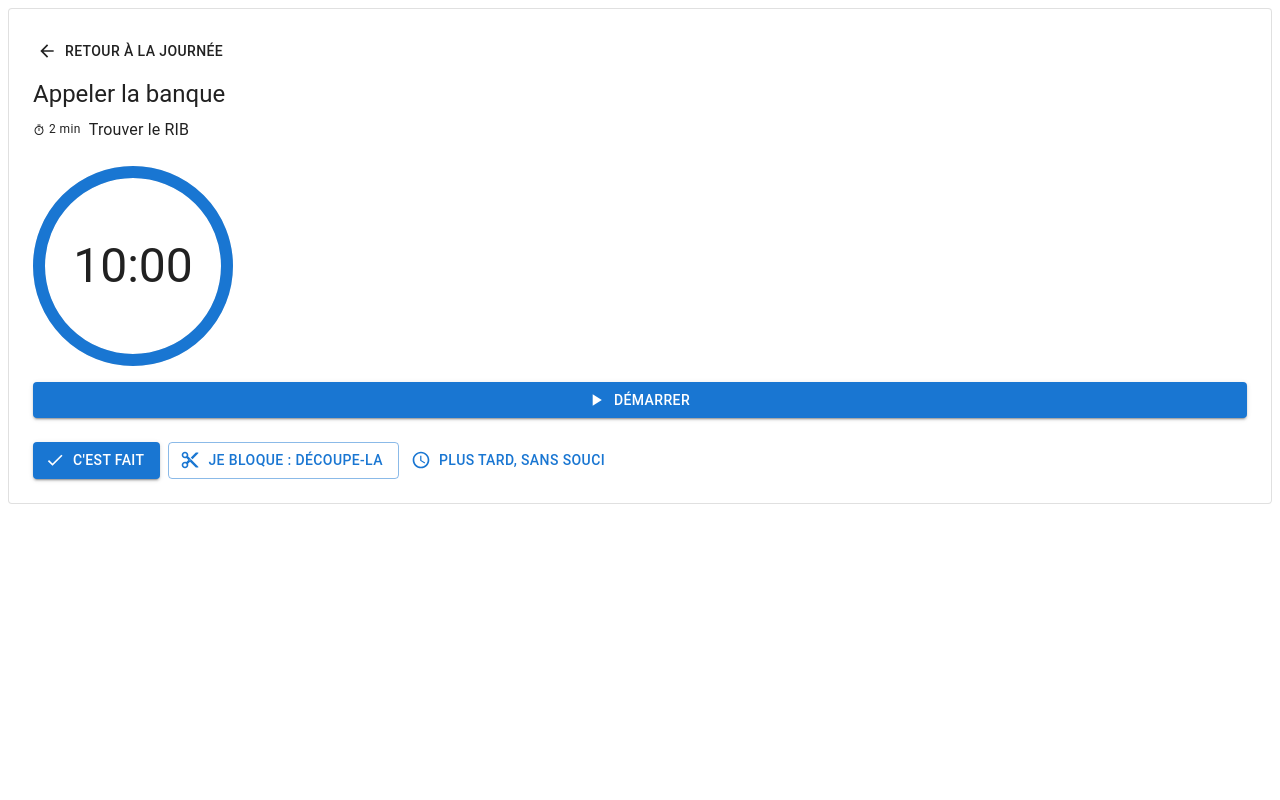
Test case: TaskFocus (MAG-499) › the petits pas › « Je bloque » works on a task with no petit pas yet, and the button adds too
The width and height of the screenshot is (1280, 800).
Click the button "Je bloque : découpe-la" at (284, 460), box [168, 442, 399, 478]
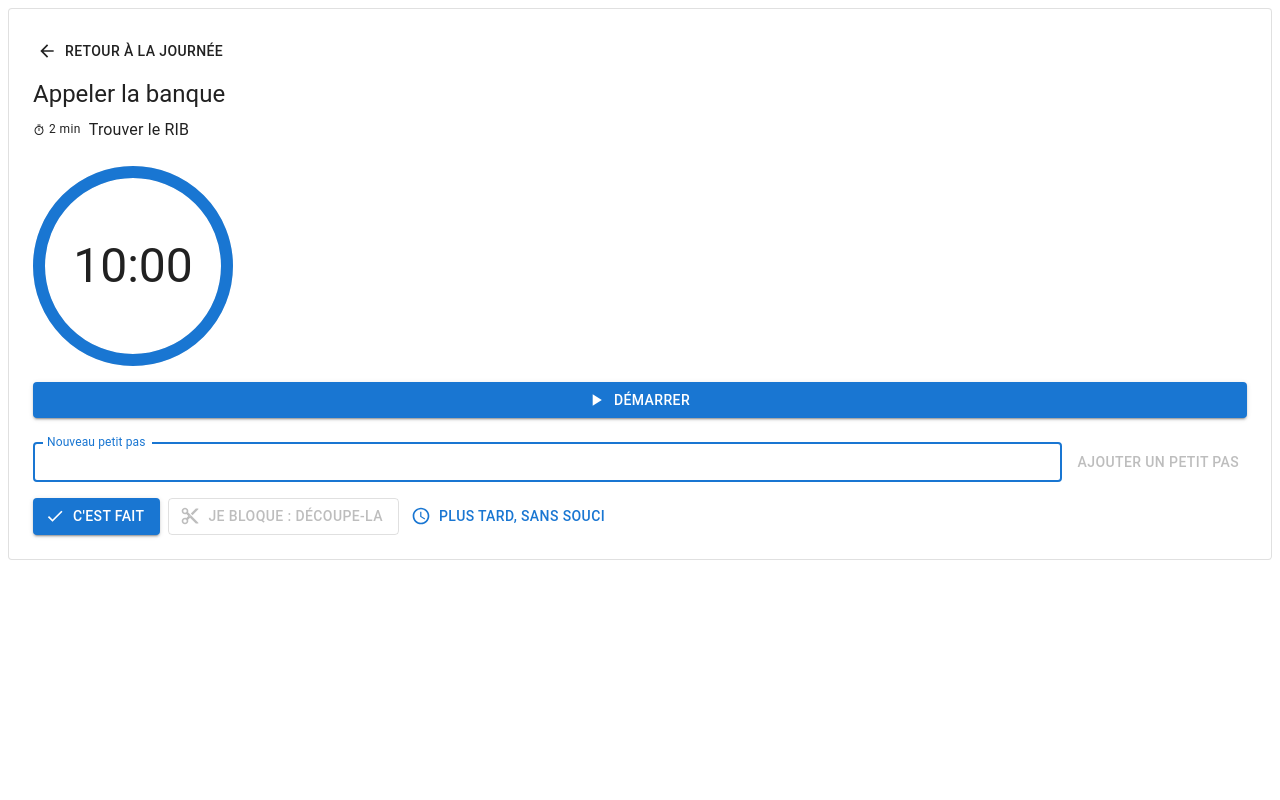
Type "Ouvrir le courrier" into the field labelled "Nouveau petit pas" at (547, 462), box [33, 442, 1062, 482]
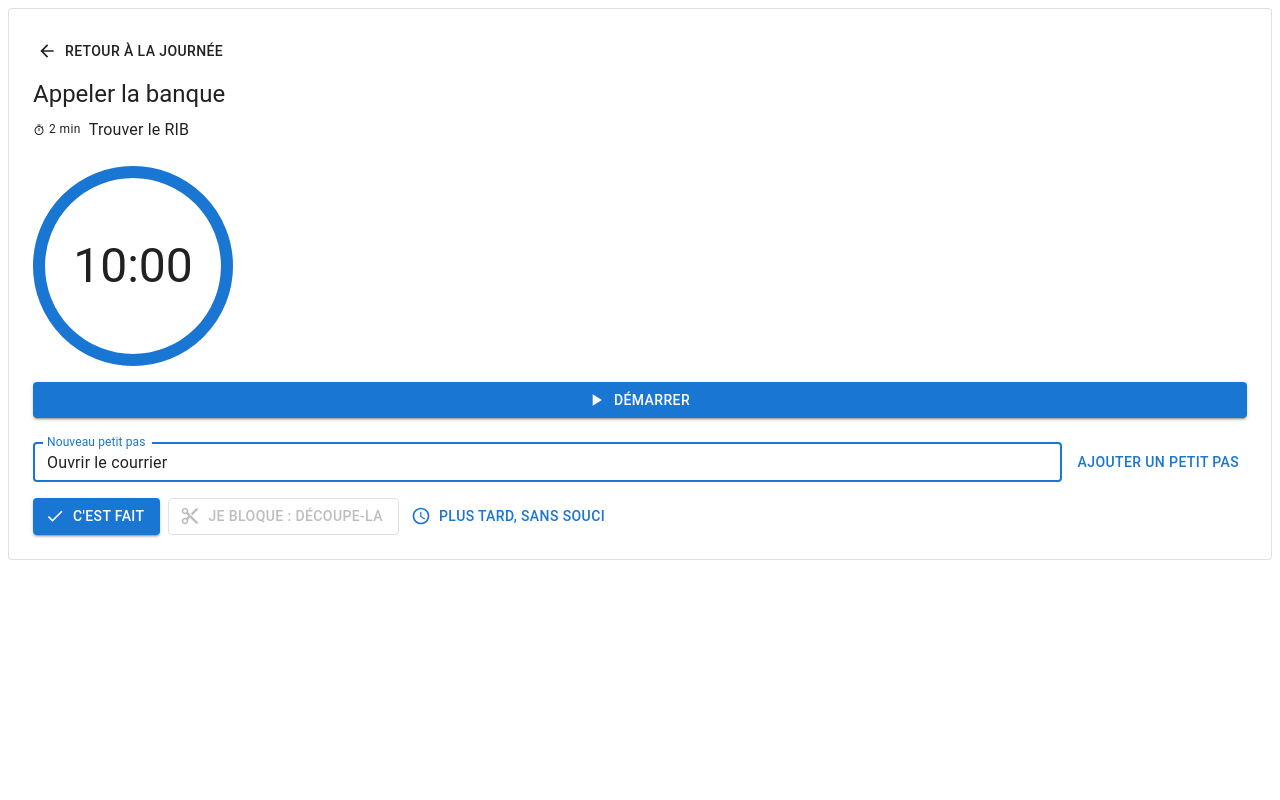
Click the button "Ajouter un petit pas" at (1158, 462), box [1070, 442, 1247, 482]
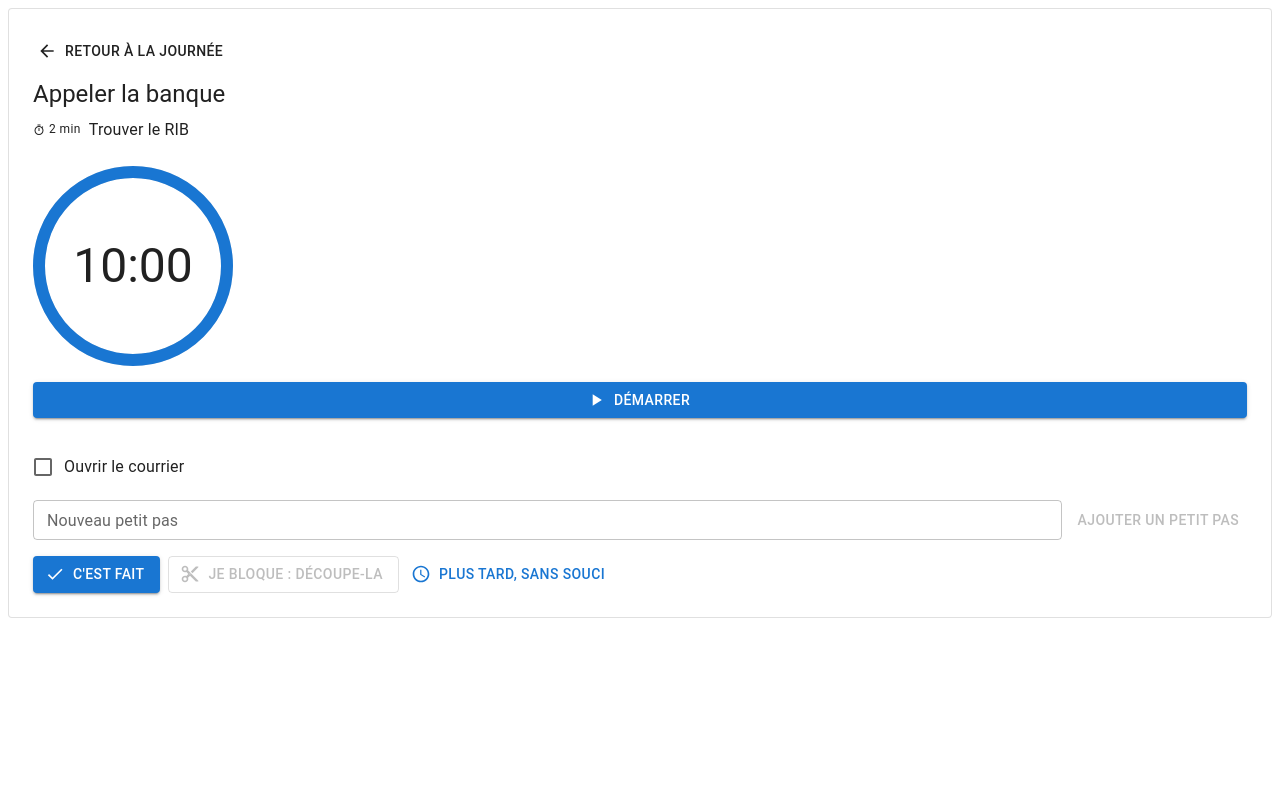
Expected: the checkbox labelled "Ouvrir le courrier" is shown, [31, 455, 184, 479]
